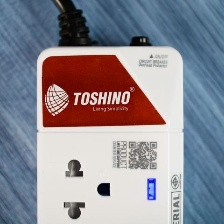three_eye_plug: (30, 38, 187, 223)
